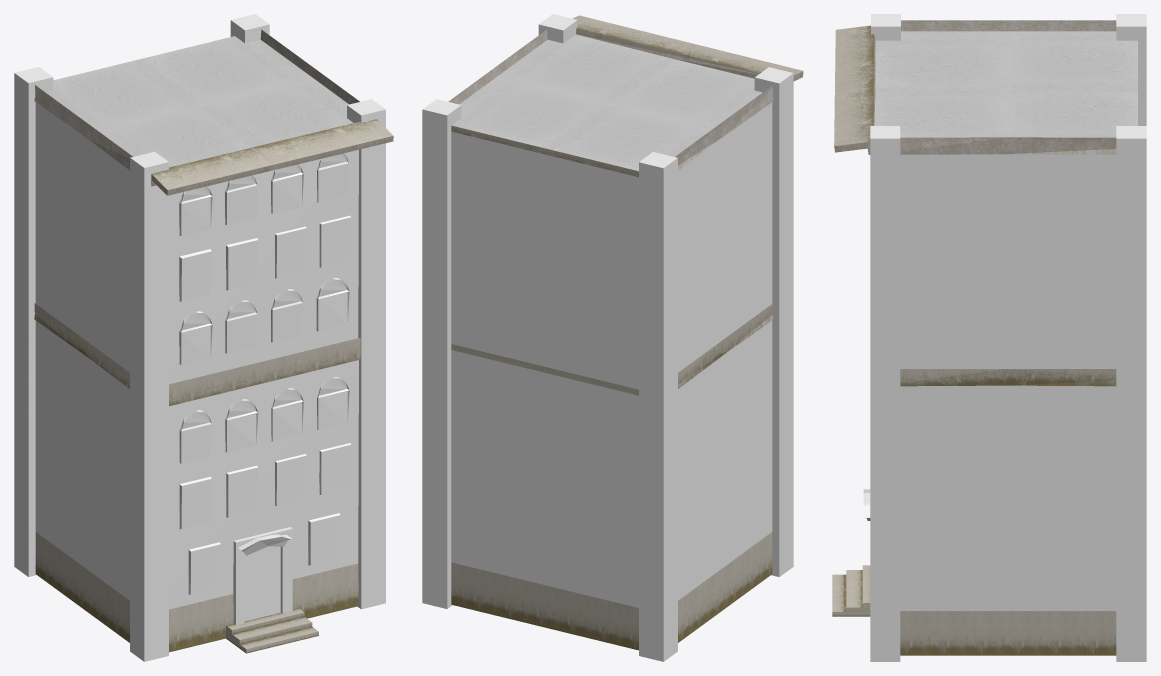
Rendered from city3_h15_LOD.fbx.
The picture shows the model from 3 angles, left to right: view 1: azimuth 30°, elevation 25°; view 2: azimuth 150°, elevation 25°; view 3: azimuth 270°, elevation 25°; orthographic projection. The views are drawn at different scales.
Visible parts, largest first — view 1: Default_Layer; view 2: Default_Layer; view 3: Default_Layer.
Part boxes in pixels (x1,y1,x2,y2): Default_Layer: (14,14,393,661); Default_Layer: (422,14,803,661); Default_Layer: (832,14,1146,661).
Size of the model in its own units: 466 by 911 by 496.
